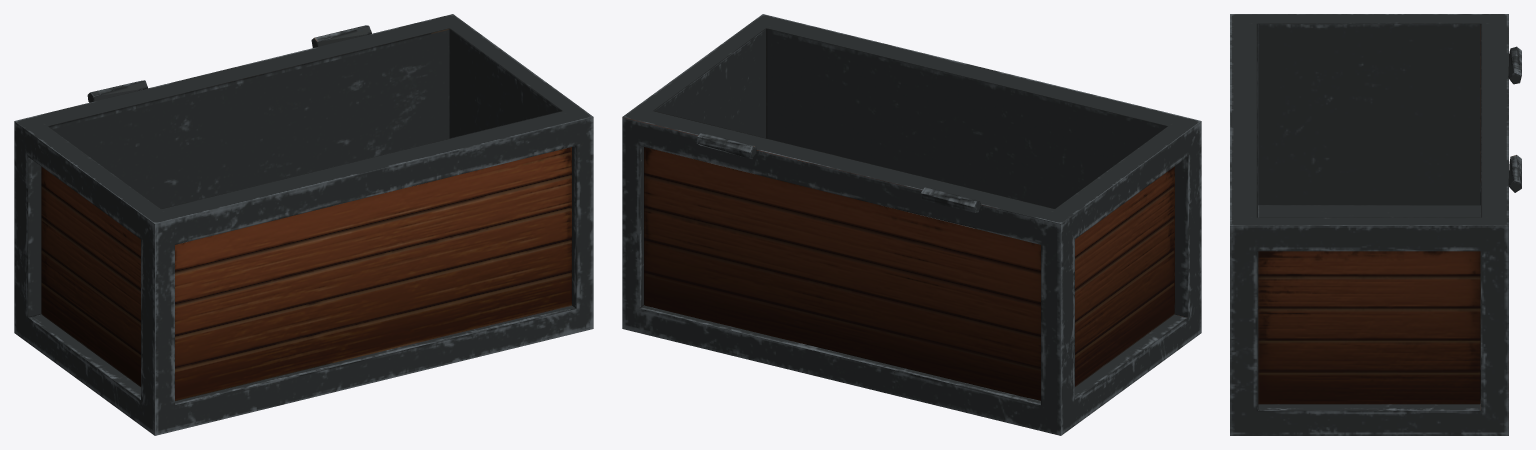
Rendered from Chest_Bottom.fbx.
3 renders of one model, left to right at view 1: azimuth 30°, elevation 25°; view 2: azimuth 150°, elevation 25°; view 3: azimuth 270°, elevation 25°, orthographic.
Parts seen in each view (by area): view 1: chest; view 2: chest; view 3: chest.
Part boxes in pixels (<box>): chest: <box>14,14,593,435</box>; chest: <box>622,14,1201,435</box>; chest: <box>1230,14,1521,435</box>.
Bounding box in the file's own units: 108 × 51.28 × 62.81.
1 material, 1 textured.
